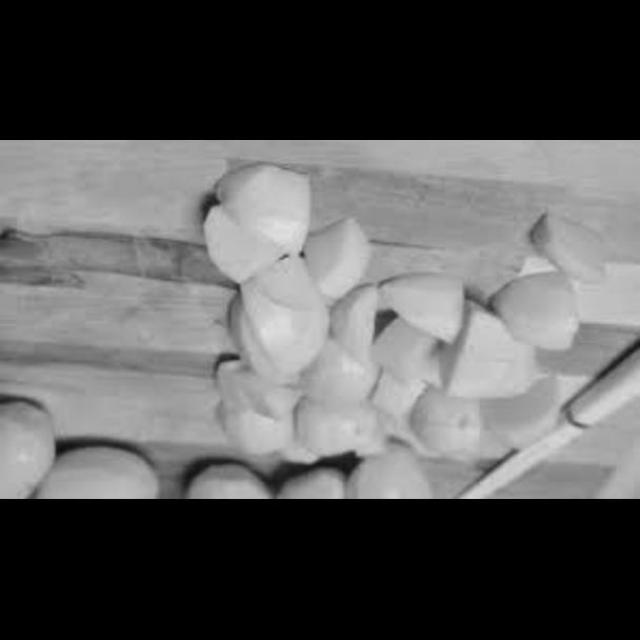potato: (198, 163, 614, 460), (36, 441, 170, 500), (0, 397, 67, 500), (354, 442, 438, 500), (185, 453, 278, 501), (270, 464, 354, 501)
